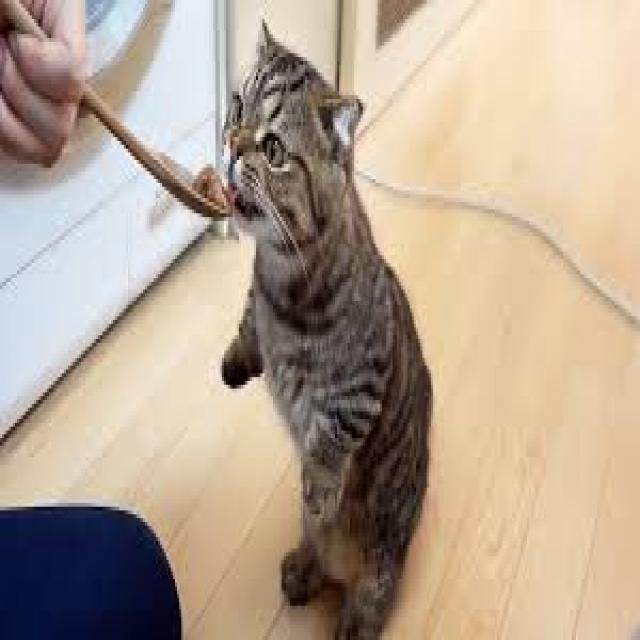cat-face: (204, 34, 364, 260)
